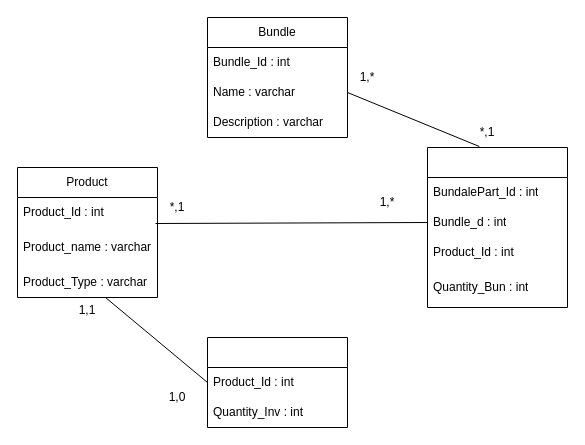
Some shapes in this 585 by 445 pixel diagram are drawn without their labels. Each missing label, with the box of its shape:
BundlePart: (426, 146, 568, 308)
Inventory: (206, 336, 348, 428)
